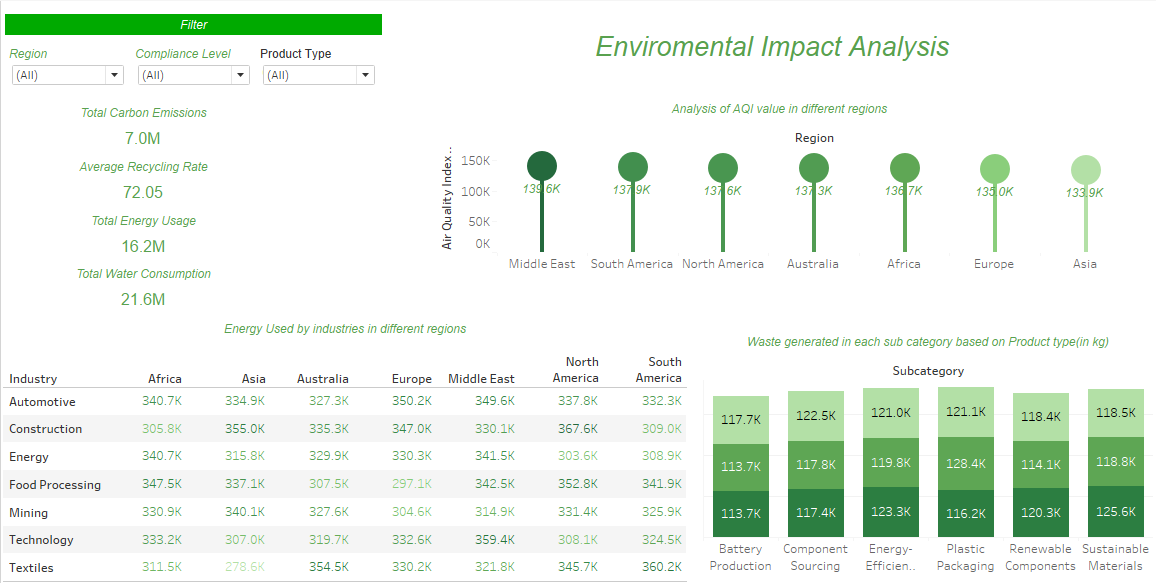

What the dashboard file says about the page in this screenshot:
{"tool":"tableau","page":{"name":"Dashboard 3","canvas":[1000,1000],"units":"permille","ordinal":2},"visuals":[{"type":"text","box":[335.9,13.7,663.2,130.1]},{"type":"worksheet","title":"Filter","mark":"Automatic","box":[0,15.4,333.3,49.7]},{"type":"filter","title":"Filter","param":"[federated.1uodc0x11wu55u1a72fyl1v5j2k6].[none:Region:nk]","box":[3.5,71.9,108.8,78.8]},{"type":"filter","title":"Filter","param":"[federated.1uodc0x11wu55u1a72fyl1v5j2k6].[none:Compliance Level:nk]","box":[112.3,71.9,108.8,78.8]},{"type":"filter","title":"Filter","param":"[federated.1uodc0x11wu55u1a72fyl1v5j2k6].[none:Product Type:nk]","box":[221.1,71.9,108.8,78.8]},{"type":"worksheet","title":"Total Carbon Emissions","mark":"Automatic","box":[6.9,166.1,232.9,92.5]},{"type":"worksheet","title":"Lollipop chart","mark":"Automatic","rows":["Air Quality Index (AQI)","Air Quality Index (AQI)"],"cols":["Region"],"box":[372.3,166.1,606.1,332.2]},{"type":"worksheet","title":"Average Recycling Rate","mark":"Automatic","box":[6.9,258.6,232.9,92.5]},{"type":"worksheet","title":"Total Energy Usage","mark":"Automatic","box":[6.9,351,232.9,90.8]},{"type":"worksheet","title":"Total water consumption","mark":"Automatic","box":[6.9,441.8,232.9,90.8]},{"type":"worksheet","title":"Text table","mark":"Automatic","rows":["Industry"],"cols":["Region"],"box":[1.7,542.8,592.2,452.1]},{"type":"worksheet","title":"Stacked bars","mark":"Automatic","rows":["Waste Generated (kg)"],"cols":["Subcategory"],"box":[607.8,565.1,389.6,421.2]}]}

Visuals, with their boxes on the dashboard's canvas, which has no fixed pixel size, in thousandths of its width and height (x1, y1, x2, y2). These are canvas units, not pixel positions in the 1156x583 screenshot, which may show the page scaled, cropped or inside an application window:
text: x1=336 y1=14 x2=999 y2=144
"Filter" worksheet: x1=0 y1=15 x2=333 y2=65
"Filter" filter: x1=4 y1=72 x2=112 y2=151
"Filter" filter: x1=112 y1=72 x2=221 y2=151
"Filter" filter: x1=221 y1=72 x2=330 y2=151
"Total Carbon Emissions" worksheet: x1=7 y1=166 x2=240 y2=259
"Lollipop chart" worksheet: x1=372 y1=166 x2=978 y2=498
"Average Recycling Rate" worksheet: x1=7 y1=259 x2=240 y2=351
"Total Energy Usage" worksheet: x1=7 y1=351 x2=240 y2=442
"Total water consumption" worksheet: x1=7 y1=442 x2=240 y2=533
"Text table" worksheet: x1=2 y1=543 x2=594 y2=995
"Stacked bars" worksheet: x1=608 y1=565 x2=997 y2=986
